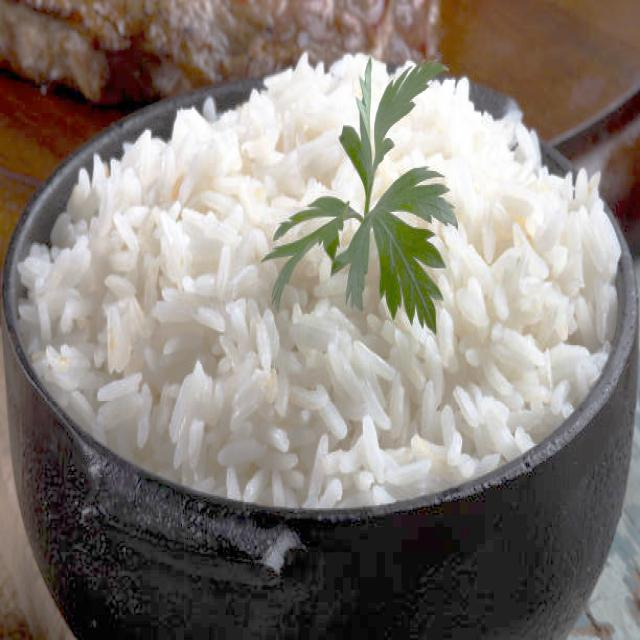rice: (15, 49, 623, 511)
